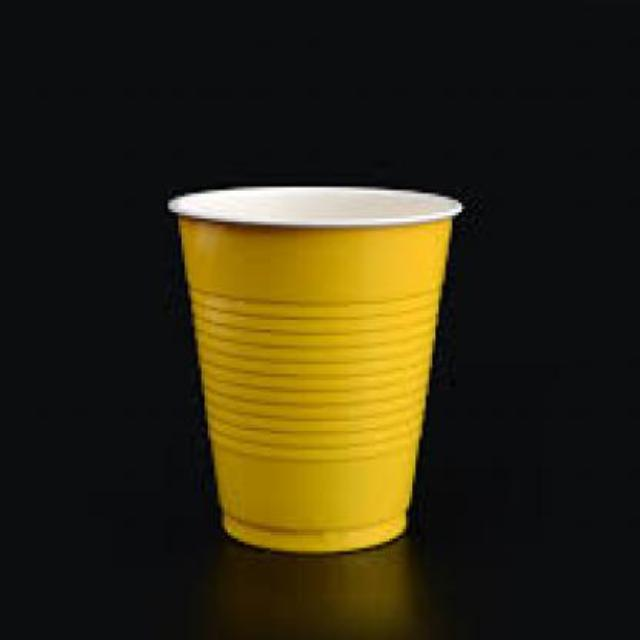plastic_cup: (172, 188, 458, 560)
